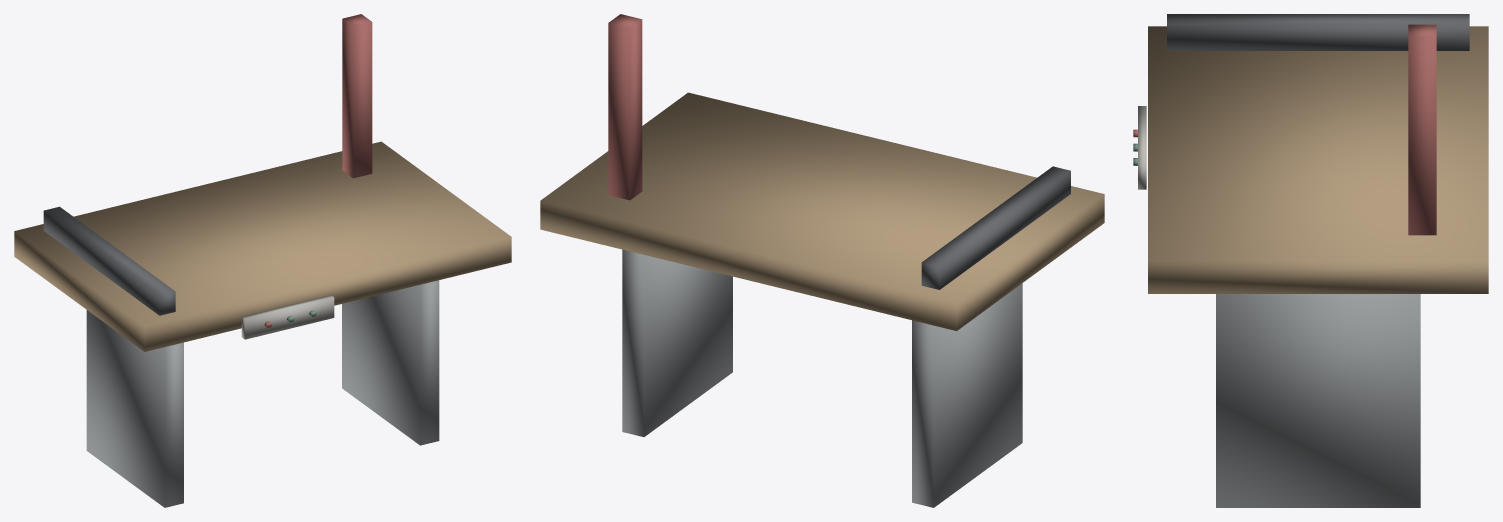
Rendered from paper_cutter__squat.glb.
3 renders of one model, left to right at view 1: azimuth 30°, elevation 25°; view 2: azimuth 150°, elevation 25°; view 3: azimuth 270°, elevation 25°, orthographic. The views are drawn at different scales.
Visible parts, largest first — view 1: world; view 2: world; view 3: world.
Part boxes in pixels (left/top/right/bottom): world: left=14, top=14, right=511, bottom=507; world: left=540, top=14, right=1104, bottom=507; world: left=1133, top=14, right=1488, bottom=507.
Bounding box in the file's own units: 1.26 × 1.2 × 0.8111.
